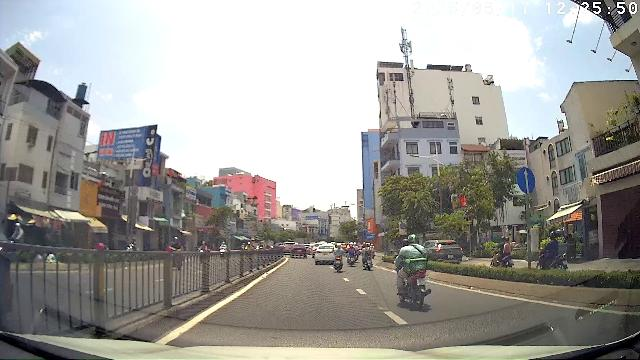301a-cac-xe-chi-duoc-di-thang: (516, 167, 536, 193)
